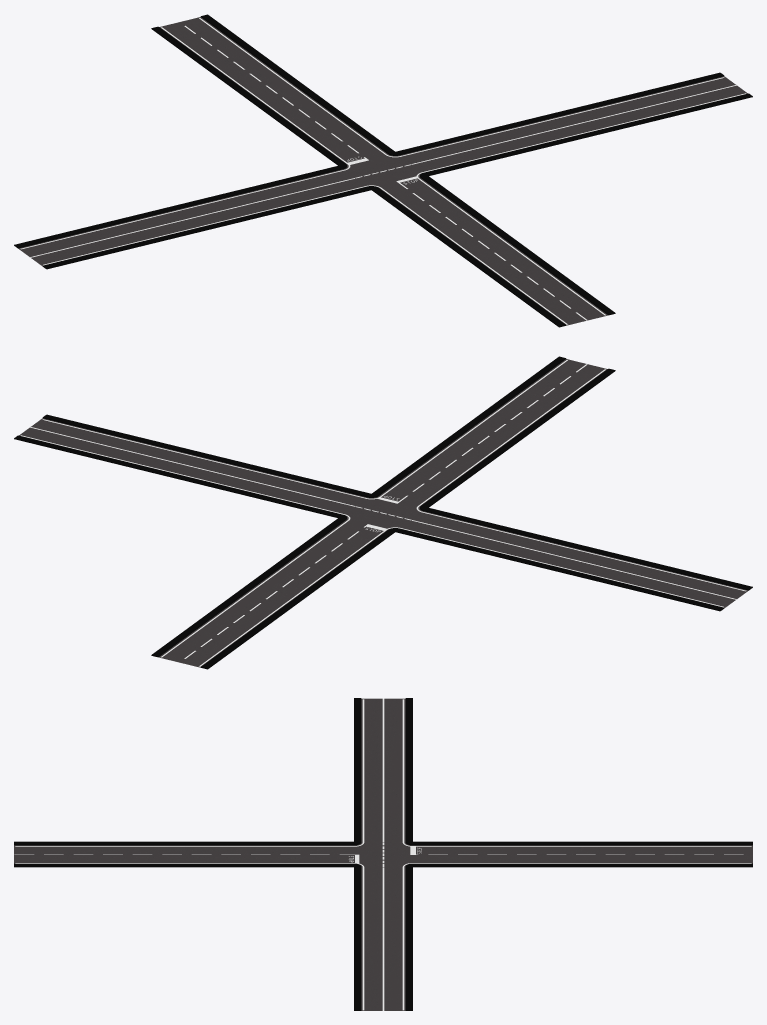
The model's file is stop2.dae.
3 renders of one model, top to bottom at view 1: azimuth 30°, elevation 25°; view 2: azimuth 150°, elevation 25°; view 3: azimuth 270°, elevation 25°, orthographic. The views are drawn at different scales.
Visible parts, largest first — view 1: SketchUp_029, SketchUp_001, SketchUp_002, SketchUp, SketchUp_003, SketchUp_015, SketchUp_027, SketchUp_030, SketchUp_028; view 2: SketchUp_029, SketchUp, SketchUp_003, SketchUp_001, SketchUp_002, SketchUp_015, SketchUp_027, SketchUp_030, SketchUp_028; view 3: SketchUp_029, SketchUp, SketchUp_001, SketchUp_002, SketchUp_003, SketchUp_015, SketchUp_027, SketchUp_028, SketchUp_030.
Boxes of the visible parts, x1,y1,x2,y2 form: SketchUp_029: (18,17,747,325); SketchUp_001: (200,14,724,155); SketchUp_002: (42,186,566,327); SketchUp: (420,93,752,315); SketchUp_003: (14,26,346,248); SketchUp_015: (396,93,746,315); SketchUp_027: (20,27,368,249); SketchUp_030: (199,18,724,157); SketchUp_028: (43,185,567,324); SketchUp_029: (19,359,748,667); SketchUp: (42,356,566,497); SketchUp_003: (200,528,724,669); SketchUp_001: (14,435,346,657); SketchUp_002: (420,368,752,590); SketchUp_015: (42,360,567,503); SketchUp_027: (199,524,723,666); SketchUp_030: (20,435,350,657); SketchUp_028: (416,369,746,591); SketchUp_029: (14,698,752,1010); SketchUp: (14,863,361,1010); SketchUp_001: (405,863,752,1010); SketchUp_002: (14,698,361,845); SketchUp_003: (405,698,752,845); SketchUp_015: (15,854,364,1010); SketchUp_027: (402,699,751,854); SketchUp_028: (15,699,364,846); SketchUp_030: (402,863,751,1010).
Size of the model in its own units: 100 by 100 by 0.1.
Materials: 7 (1 with a texture image).
